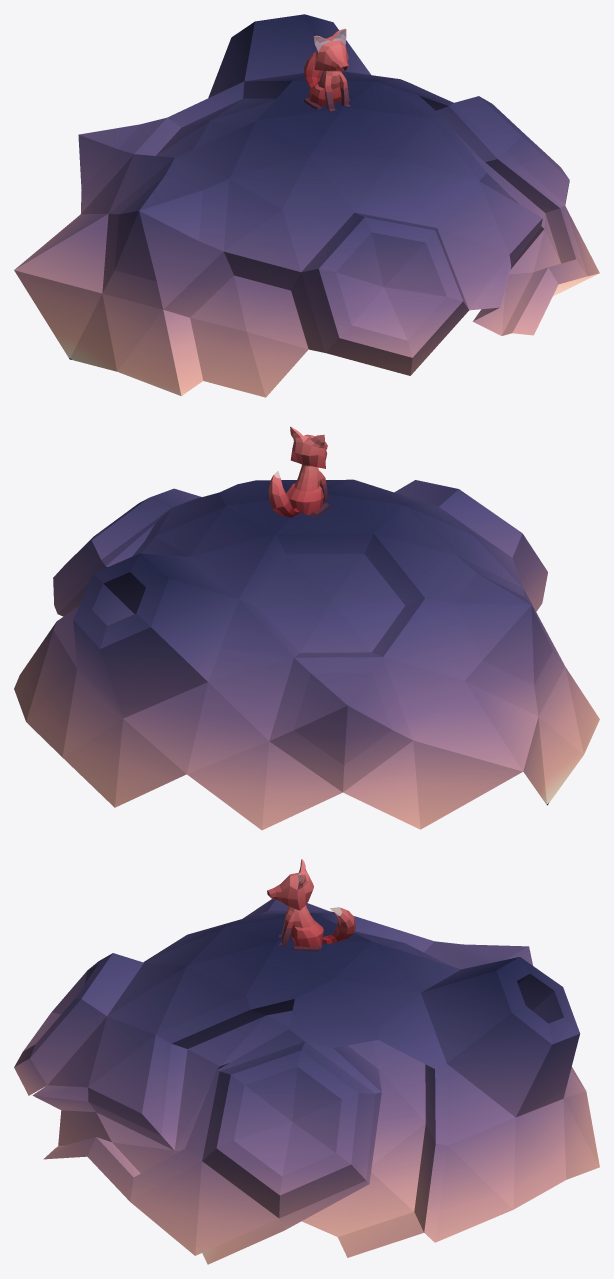
Rendered from kleiner prinz fox_scene.glb.
The picture shows the model from 3 angles, top to bottom: view 1: azimuth 30°, elevation 25°; view 2: azimuth 150°, elevation 25°; view 3: azimuth 270°, elevation 25°; orthographic projection. The views are drawn at different scales.
Parts seen in each view (by area): view 1: Ground, Fox_Body, Fox_Head; view 2: Ground, Fox_Body, Fox_Head, Fox_Tail; view 3: Ground, Fox_Body, Fox_Head, Fox_Tail.
Boxes of the visible parts, <box> form: Ground: <box>14,14,599,397</box>; Fox_Body: <box>304,71,350,112</box>; Fox_Head: <box>313,28,348,71</box>; Ground: <box>14,479,599,830</box>; Fox_Body: <box>286,464,329,517</box>; Fox_Head: <box>290,426,327,468</box>; Fox_Tail: <box>268,471,299,517</box>; Ground: <box>14,898,599,1264</box>; Fox_Body: <box>278,905,323,951</box>; Fox_Head: <box>267,859,313,910</box>; Fox_Tail: <box>322,907,355,943</box>.
Size of the model in its own units: 7.29 by 3.95 by 7.03.
2 materials, 2 textured.
